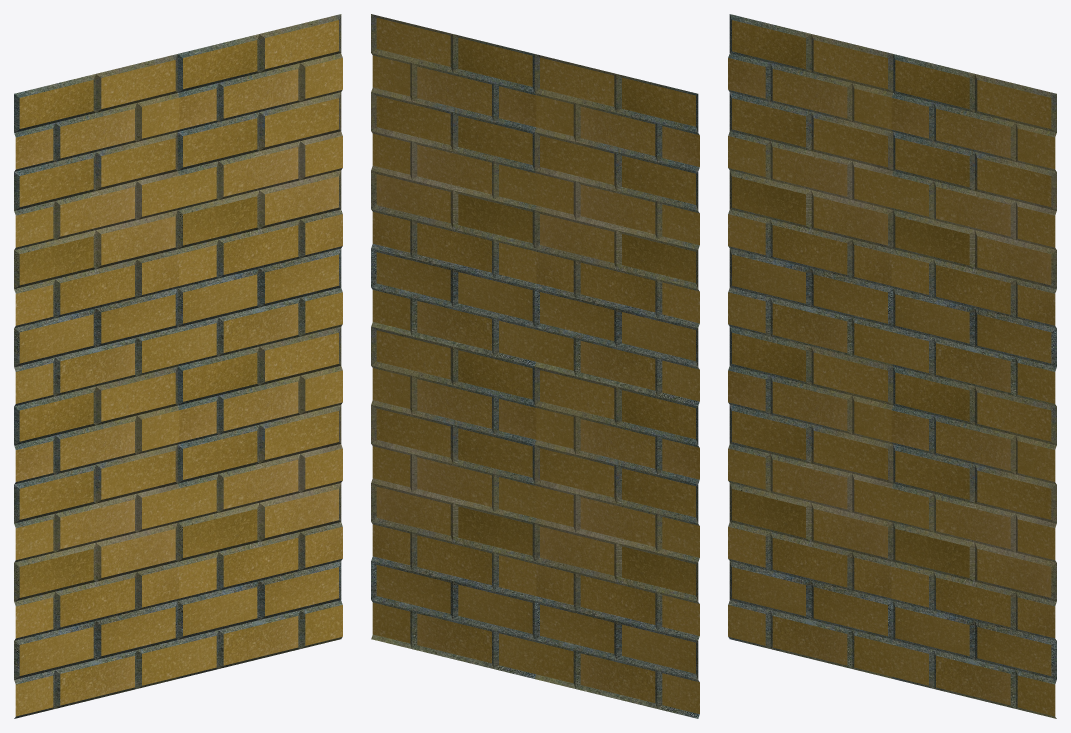
File: Parede2Alto.fbx
3 views of the same model, side by side, from view 1: azimuth 30°, elevation 25°; view 2: azimuth 150°, elevation 25°; view 3: azimuth 330°, elevation 25° (orthographic).
Parts seen in each view (by area): view 1: Plano.006; view 2: Plano.006; view 3: Plano.006.
Part boxes in pixels (bbox=[...]): Plano.006: bbox=[14, 14, 342, 718]; Plano.006: bbox=[371, 14, 699, 718]; Plano.006: bbox=[728, 14, 1056, 718].
Bounding box in the file's own units: 5850 × 10685 × 50.34.
